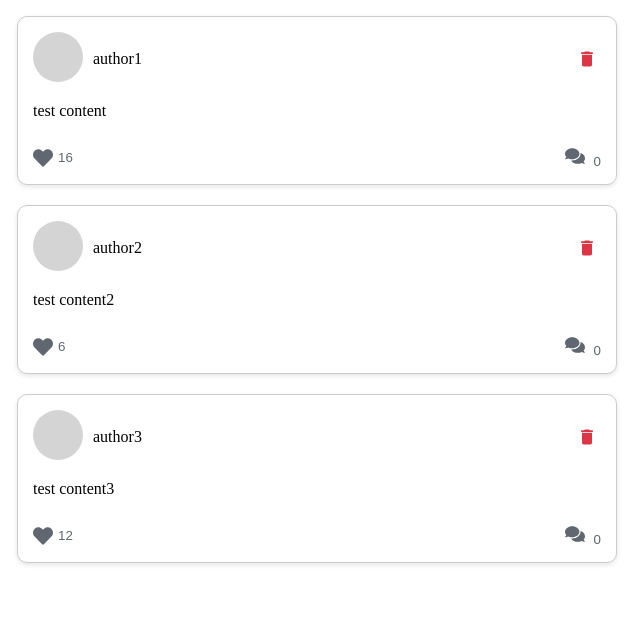
Test: Liking a Post › should handle like error by reverting the like count
The image size is (635, 641).
Click the button named "like" at (53, 158), box [33,146,73,169]
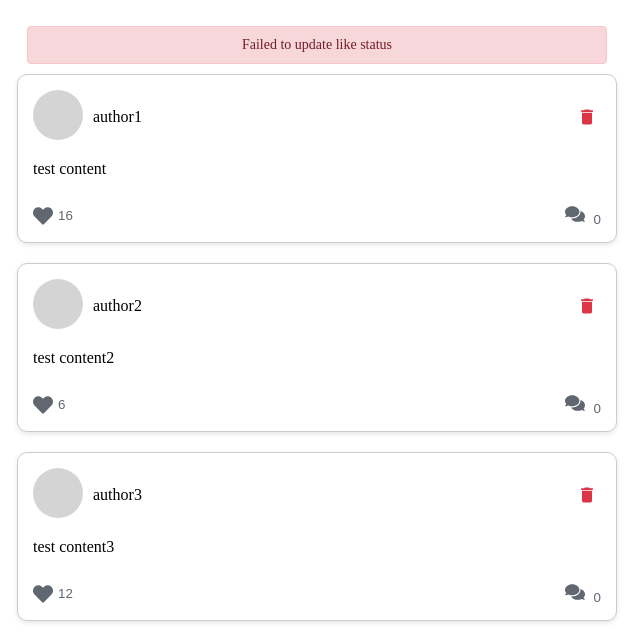
Expected: the button "16" is shown, [33,204,73,227]
Expected: the text "Failed to update like status" is shown, [27,26,607,64]
